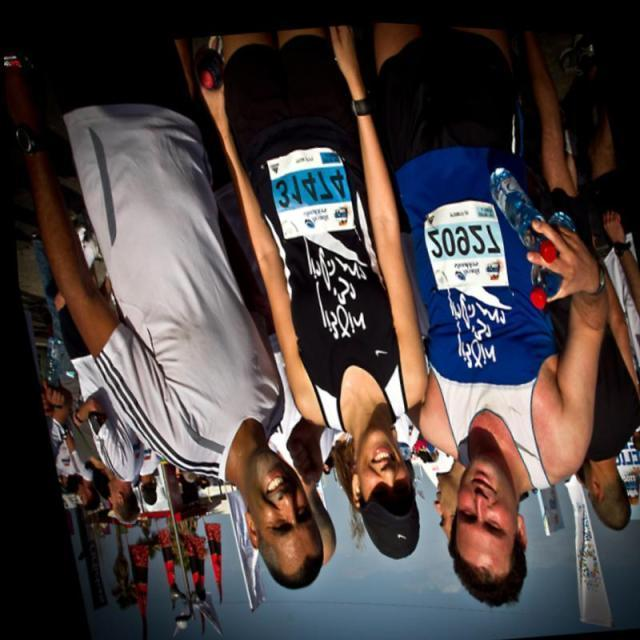dorsal: (407, 178, 520, 309), (254, 124, 365, 248)
